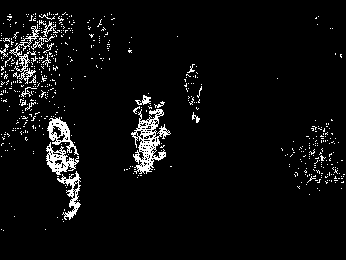person: (44, 115, 83, 222), (182, 62, 204, 126)
